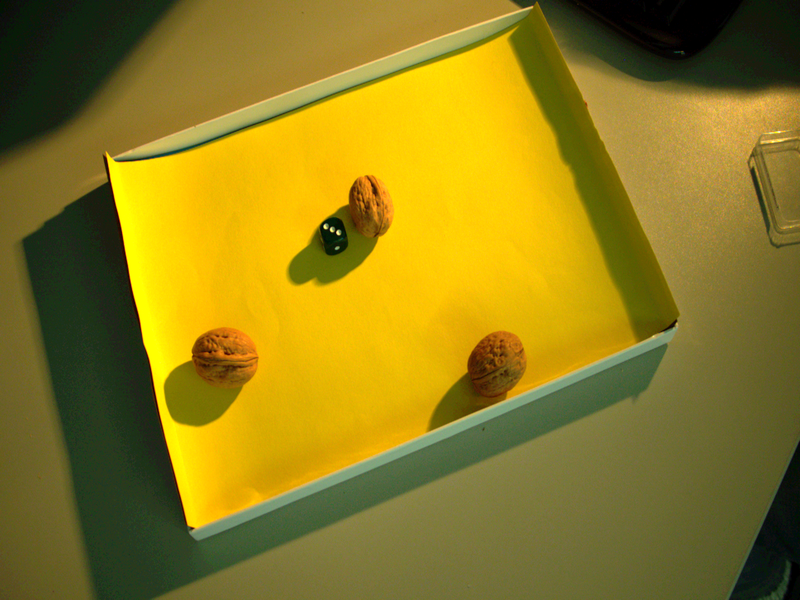walnut: (457, 326, 535, 402), (186, 323, 267, 391), (345, 172, 403, 244)
